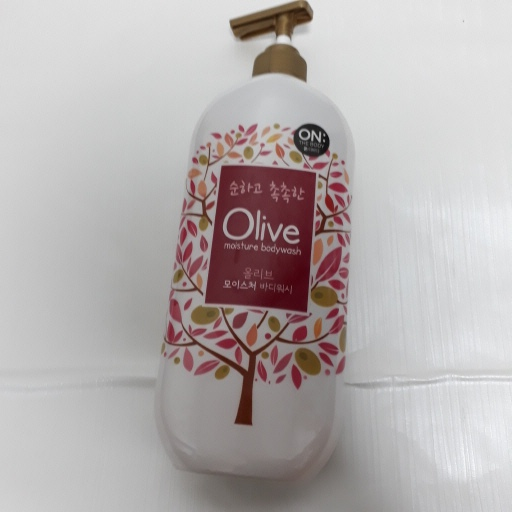Plastic_3: (157, 3, 357, 485)
